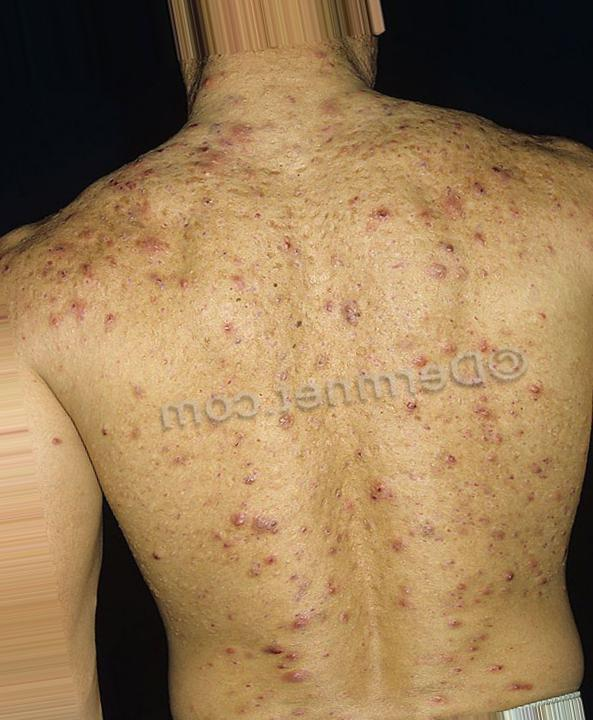Acne: (426, 415, 553, 610), (213, 467, 325, 669), (403, 176, 553, 280), (59, 209, 198, 292)
